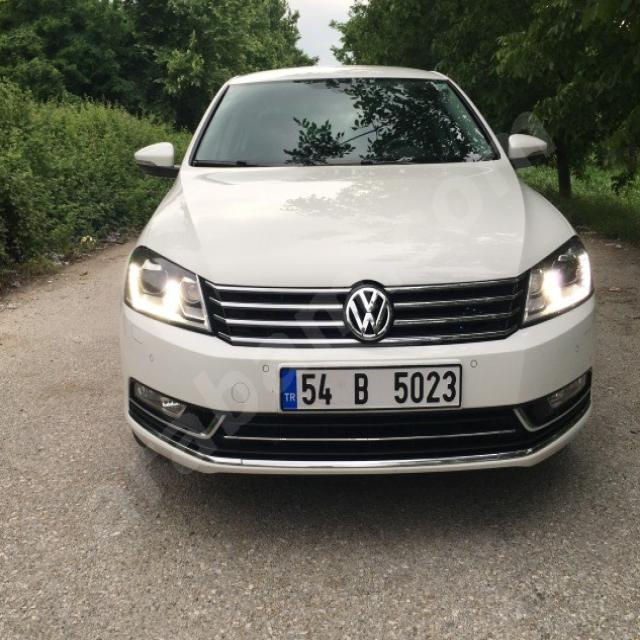license_plate: (281, 367, 462, 409)
